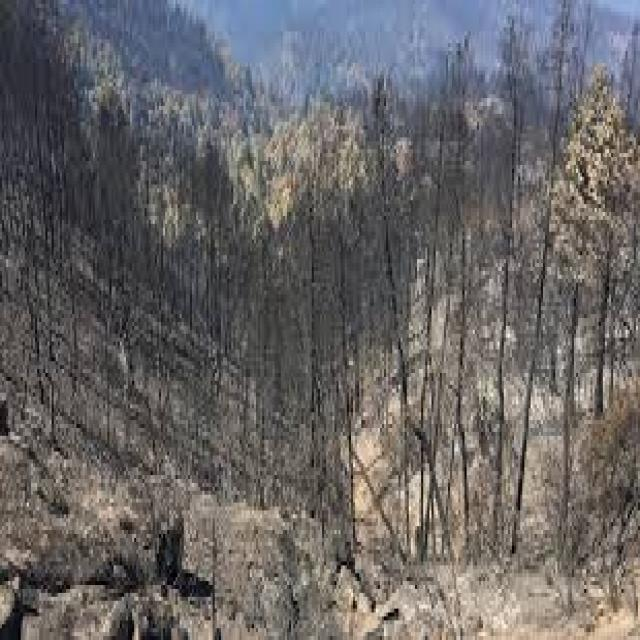Forest Fire: (239, 247, 622, 616)
